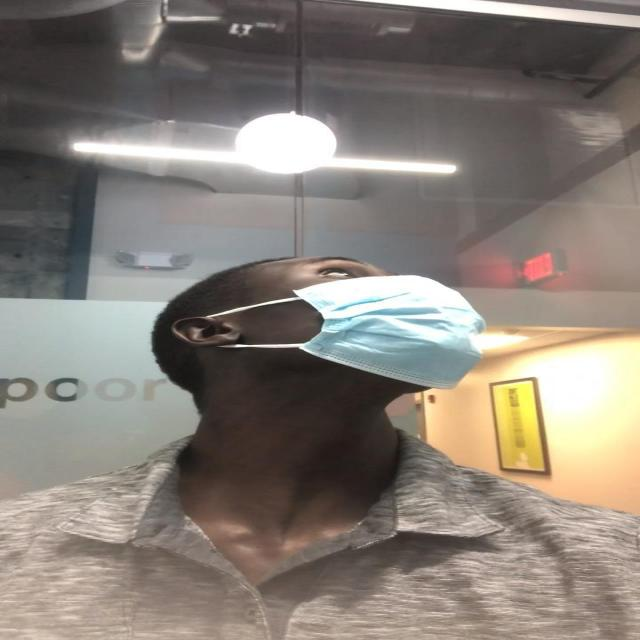face: (182, 258, 483, 386)
